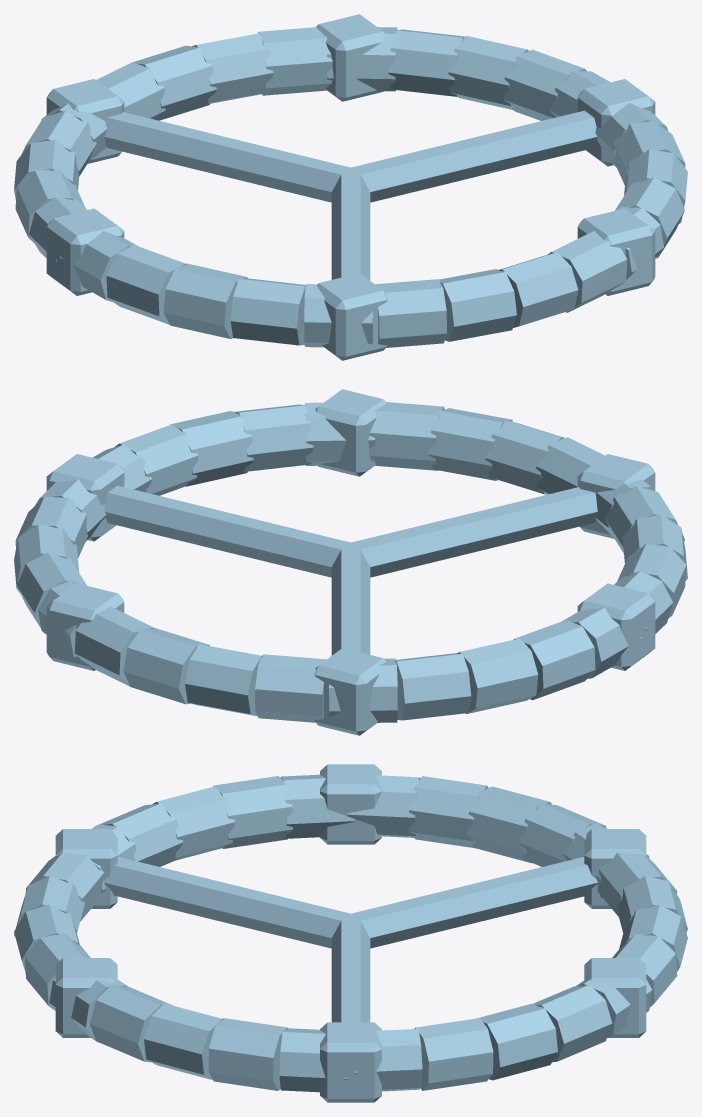
File: agp_ring.glb
3 views of the same model, one above another, from view 1: azimuth 30°, elevation 25°; view 2: azimuth 150°, elevation 25°; view 3: azimuth 270°, elevation 25° (orthographic).
Parts seen in each view (by area): view 1: agp_ring; view 2: agp_ring; view 3: agp_ring.
Boxes of the visible parts, left/top/right/bottom form: agp_ring: left=14, top=14, right=687, bottom=360; agp_ring: left=14, top=389, right=687, bottom=735; agp_ring: left=14, top=764, right=687, bottom=1102.
Size of the model in its own units: 0.6292 by 0.062 by 0.6292.
